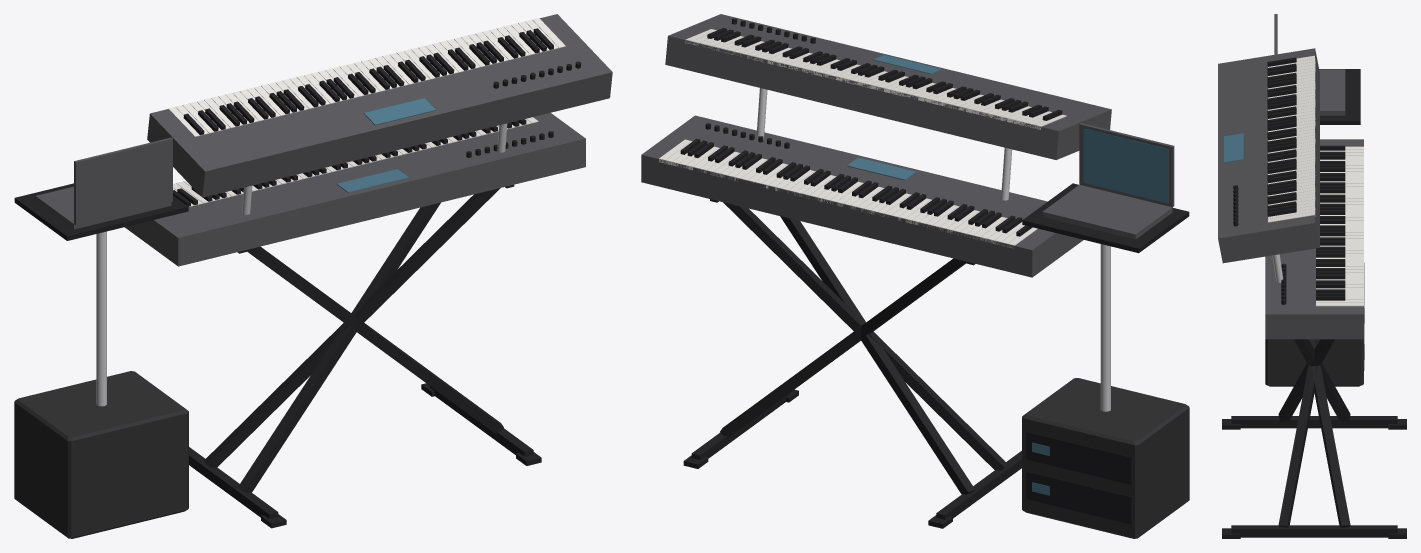
File: synth-88-double.glb
The picture shows the model from 3 angles, left to right: view 1: azimuth 30°, elevation 25°; view 2: azimuth 150°, elevation 25°; view 3: azimuth 270°, elevation 25°; orthographic projection. The views are drawn at different scales.
Visible parts, largest first — view 1: panel, frame, cabinet, keys, metal, screen; view 2: panel, frame, cabinet, keys, screen, metal; view 3: frame, panel, keys, cabinet, screen.
Part boxes in pixels (x1,y1,x2,y2): panel: [35, 14, 612, 266]; frame: [14, 28, 581, 528]; cabinet: [14, 371, 188, 538]; keys: [168, 18, 565, 206]; metal: [96, 123, 507, 406]; screen: [336, 98, 435, 192]; panel: [641, 14, 1174, 277]; frame: [680, 18, 1189, 528]; cabinet: [1022, 378, 1189, 538]; keys: [659, 29, 1066, 248]; screen: [847, 55, 1168, 495]; metal: [756, 88, 1110, 411]; frame: [1222, 57, 1406, 538]; panel: [1218, 14, 1363, 339]; keys: [1268, 55, 1363, 306]; cabinet: [1265, 339, 1363, 386]; screen: [1224, 133, 1364, 359].
Size of the model in its own units: 1.7 by 1.24 by 0.6132.
